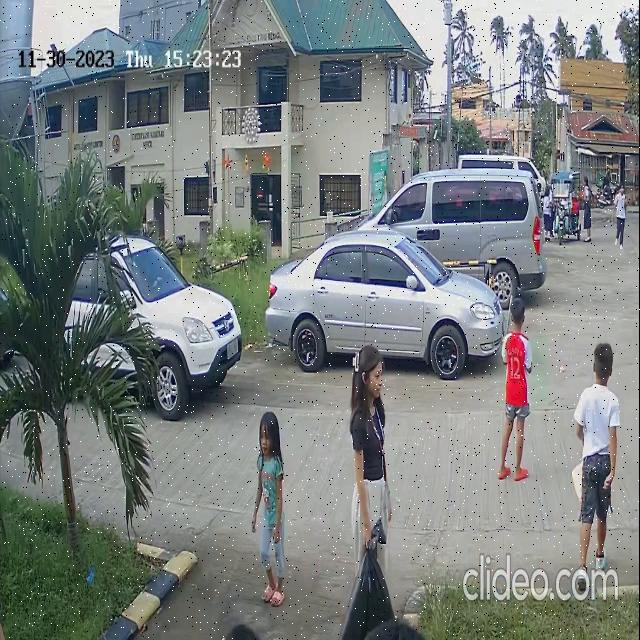human: (571, 342, 618, 592), (340, 347, 396, 541), (252, 410, 286, 610), (497, 301, 532, 486), (614, 190, 628, 248)
trash: (338, 533, 404, 640)
